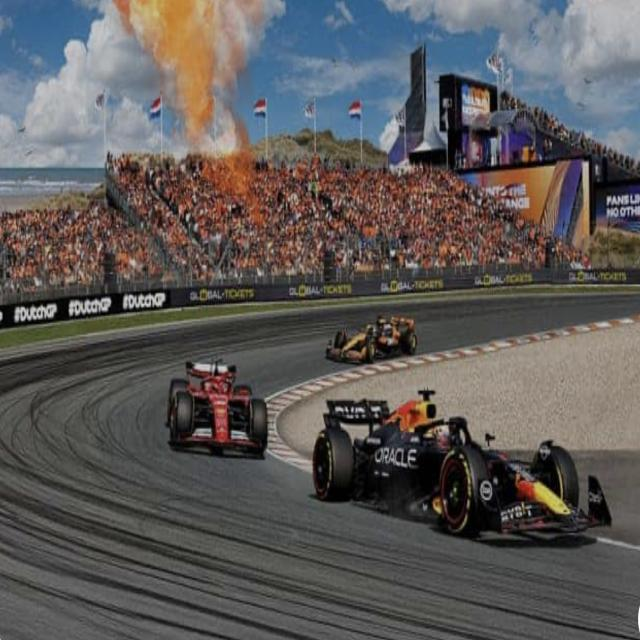Ferrari: (168, 358, 268, 456)
McLaren: (325, 311, 418, 365)
Red Bull: (312, 390, 614, 549)
